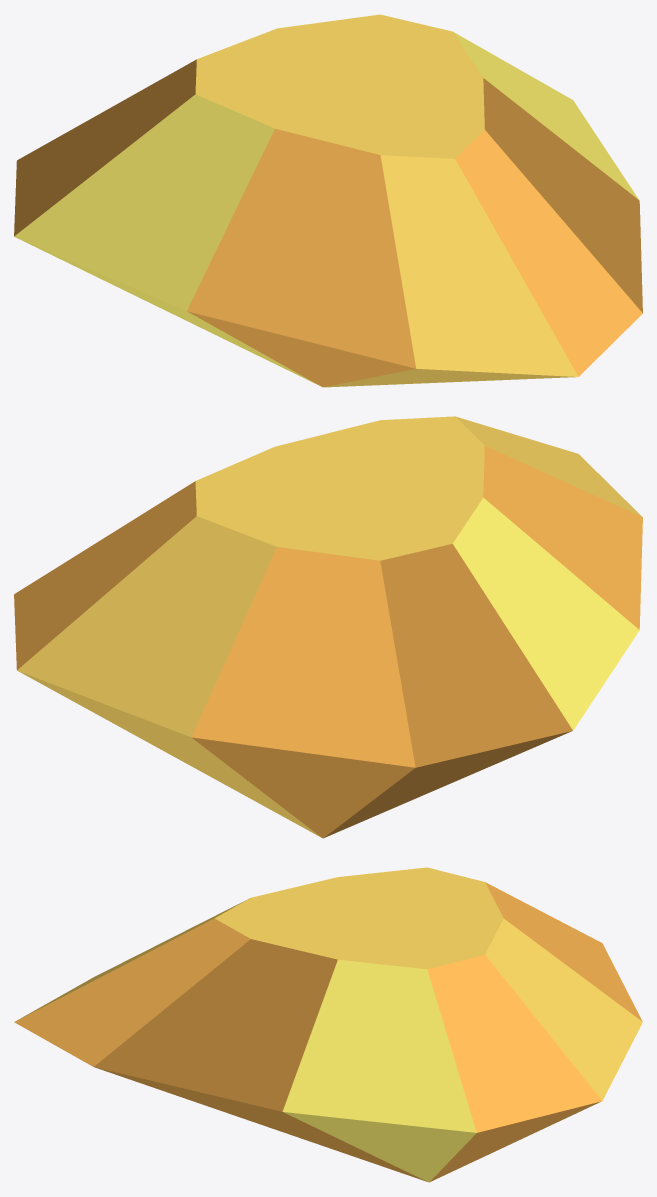
File: Topaz.glb
3 renders of one model, top to bottom at view 1: azimuth 30°, elevation 25°; view 2: azimuth 150°, elevation 25°; view 3: azimuth 270°, elevation 25°, orthographic. The views are drawn at different scales.
Visible parts, largest first — view 1: Topaz_gem; view 2: Topaz_gem; view 3: Topaz_gem.
Part boxes in pixels (x1,y1,x2,y2): Topaz_gem: [14, 14, 642, 387]; Topaz_gem: [14, 416, 642, 838]; Topaz_gem: [14, 867, 642, 1182].
Bounding box in the file's own units: 0.9669 × 0.5376 × 1.16.
